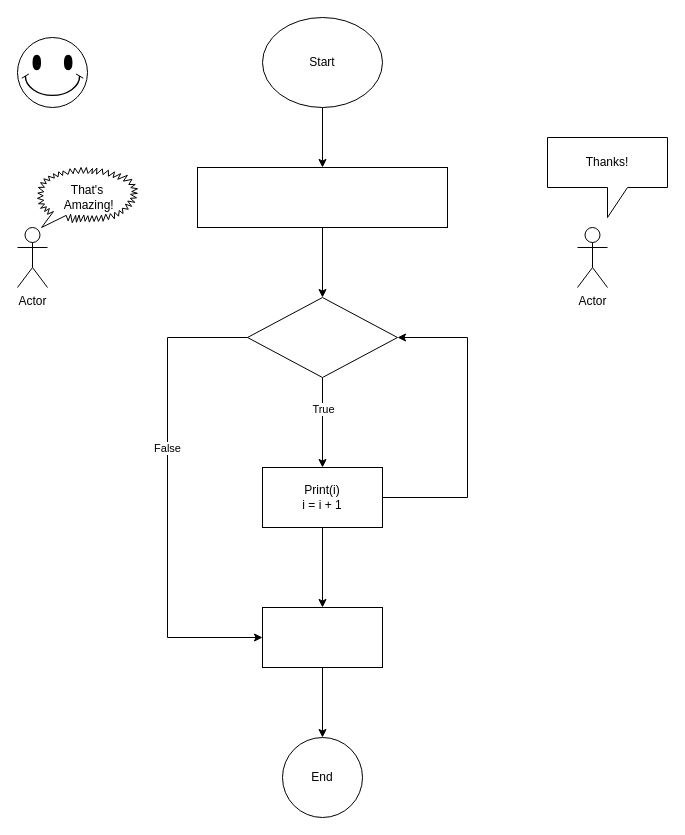
Some shapes in this 685 by 835 pixel diagram are drawn without their labels. The shapes that lost their labels are listed below. From the top down, each one's centre as x and y in pixels, then its label:
point (322, 197): i = 0
point (322, 337): while i<5
point (322, 637): Print("Done")
